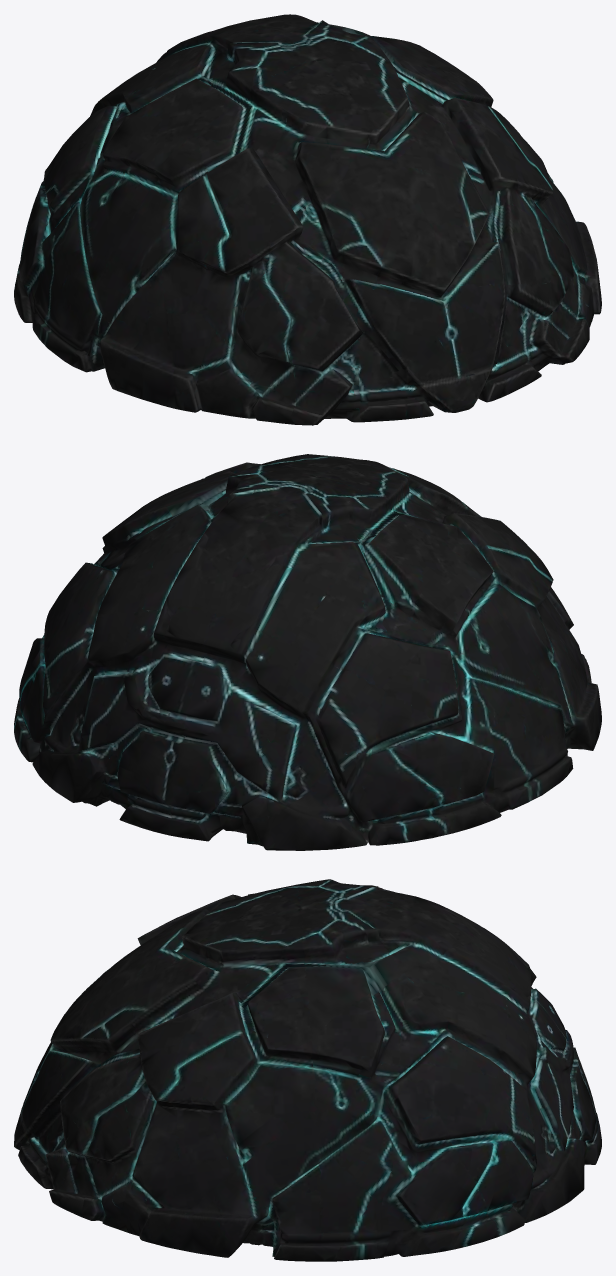
Rendered from onyx_membrane.glb.
3 renders of one model, top to bottom at view 1: azimuth 30°, elevation 25°; view 2: azimuth 150°, elevation 25°; view 3: azimuth 270°, elevation 25°, orthographic. The views are drawn at different scales.
Size of the model in its own units: 1.8 by 0.8586 by 1.9.
1 material, 1 textured.
